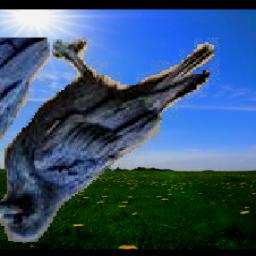Crow: (0, 38, 221, 244)
